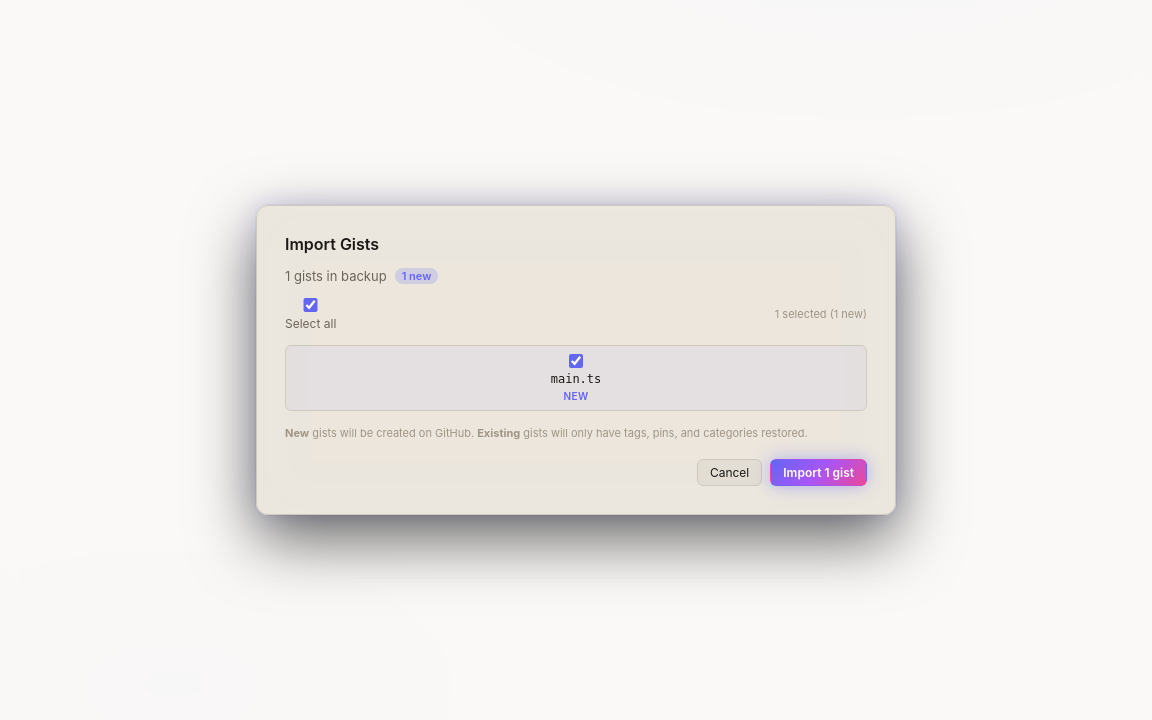
Test: ImportModal › shows done screen after successful import
expect the text "main.ts" is shown: met, box [551, 372, 601, 386]
Click the button "Import 1 gist": (819, 473) [770, 459, 867, 486]
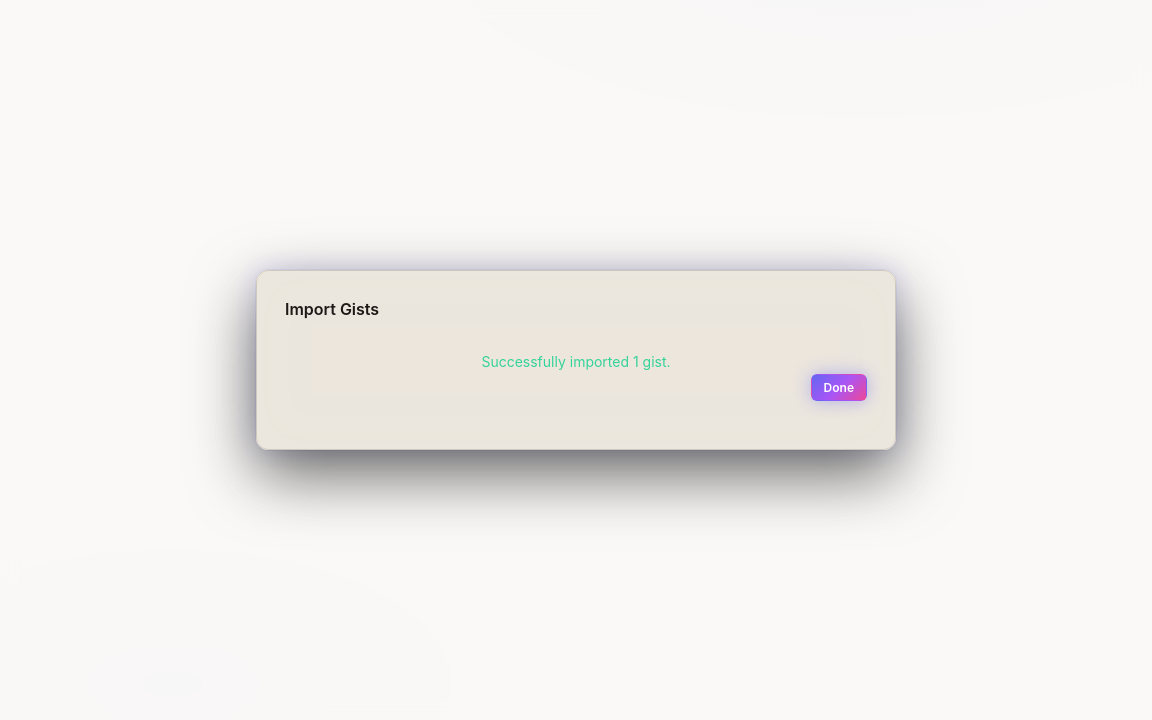
expect the text "Successfully imported 1 gist." is shown: met, box [481, 353, 671, 370]
